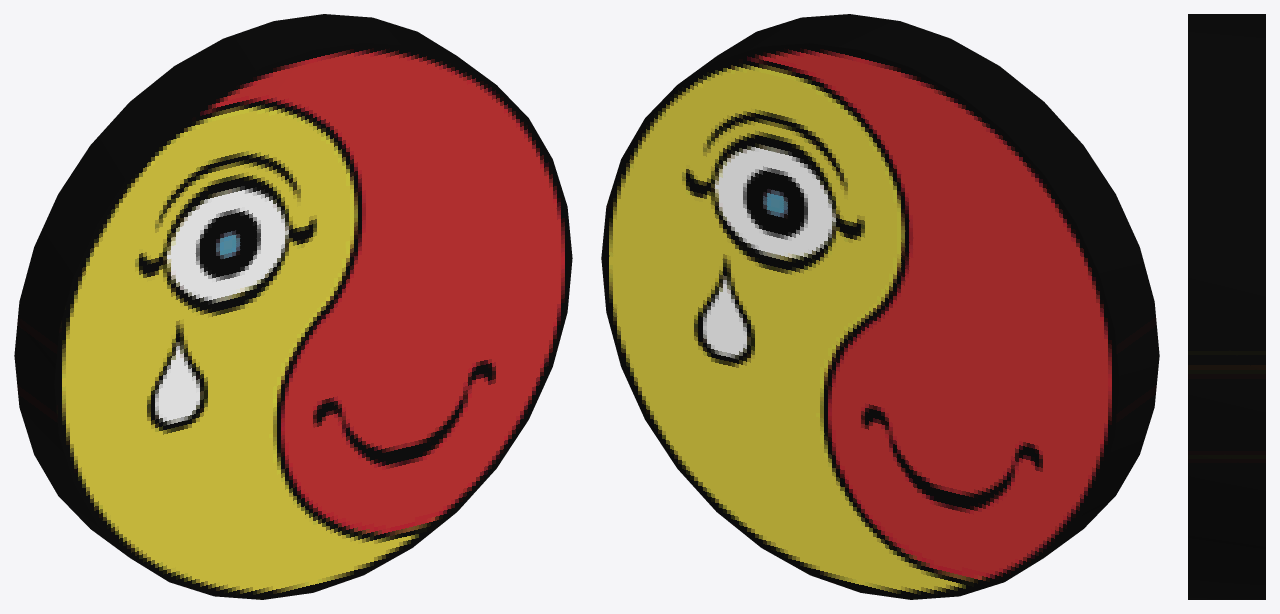
File: ps2_save-icons_shinmegamitenseidevilsummoner1.glb
3 renders of one model, left to right at view 1: azimuth 30°, elevation 25°; view 2: azimuth 150°, elevation 25°; view 3: azimuth 270°, elevation 25°, orthographic. The views are drawn at different scales.
Parts seen in each view (by area): view 1: base.ico; view 2: base.ico; view 3: base.ico.
Boxes of the visible parts, x1=… form: base.ico: x1=14, y1=14, x2=572, y2=599; base.ico: x1=601, y1=14, x2=1159, y2=599; base.ico: x1=1188, y1=14, x2=1265, y2=599.
Size of the model in its own units: 4.55 by 4.55 by 0.6042.
1 material, 1 textured.
